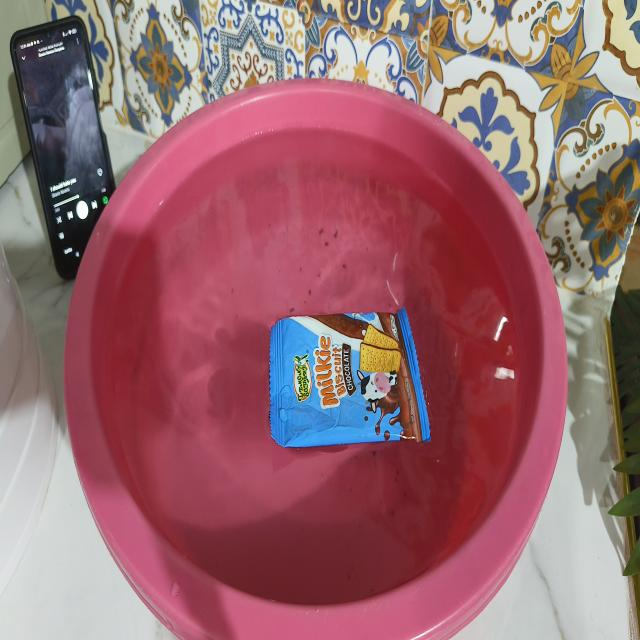Plastic Wrapper: (270, 307, 430, 447)
